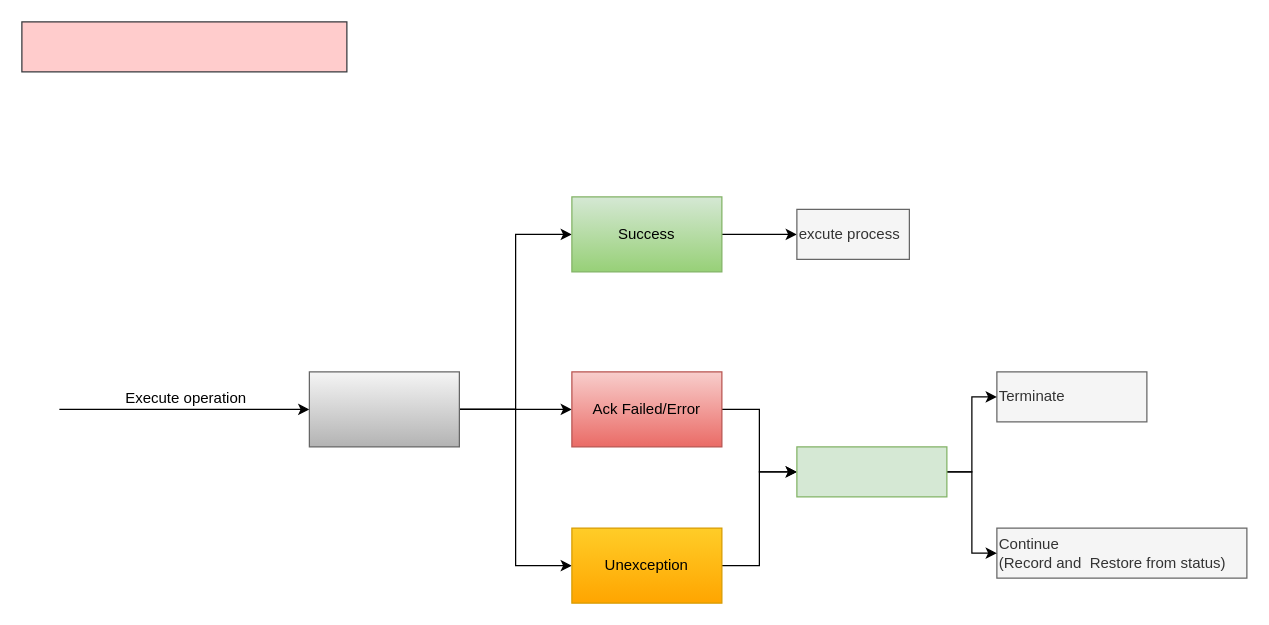
This 1269x625 diagram has some shape labels left out. The shapes that lost their labels are listed below. From the top down, each one's centre as x and y in pixels, then its label:
the point at 184,46: Operation result flow
the point at 383,409: Result
the point at 871,471: Chose operation
